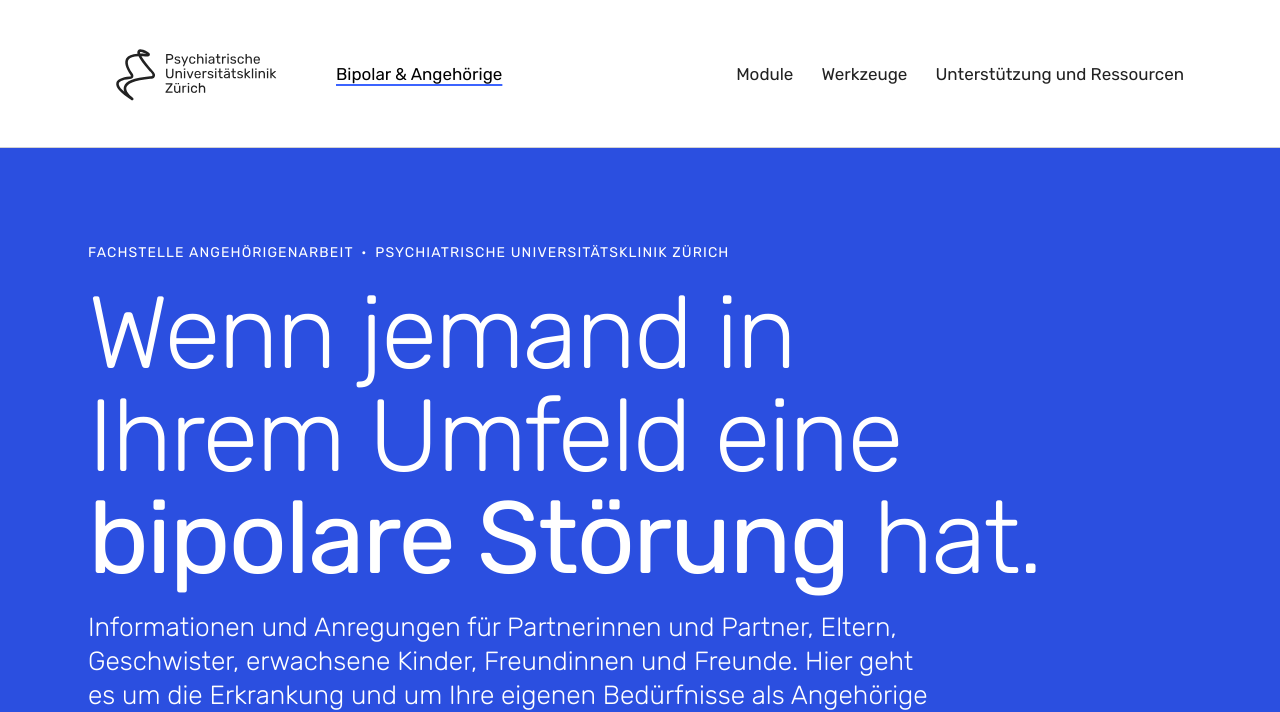
App navigation › navigates between main pages through the shared navigation
Expected: the heading "Wenn jemand in Ihrem Umfeld eine bipolare Störung hat." is shown, [88, 282, 1192, 590]
Click the link "Werkzeuge" at (864, 74), box [821, 64, 907, 84]
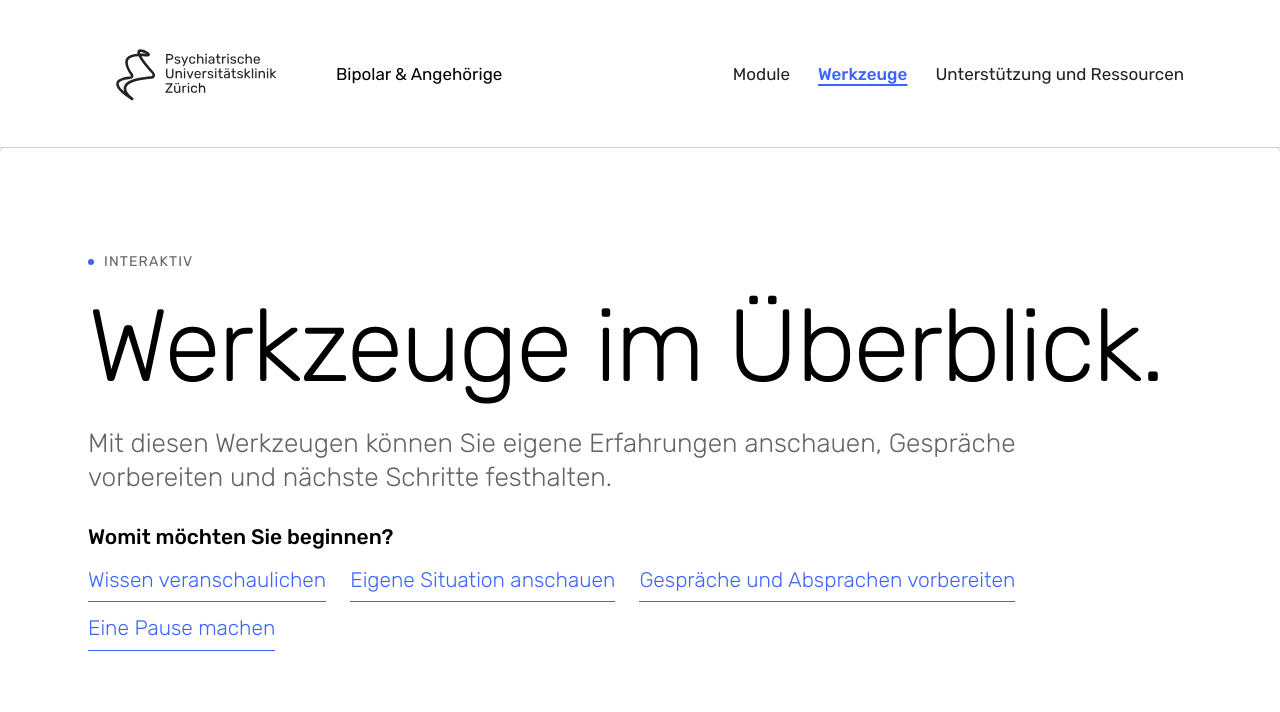
Result: the heading "Werkzeuge im Überblick." is shown at [88, 295, 1192, 398]
Click the link "Unterstützung und Ressourcen" at (1060, 74), box [935, 64, 1184, 84]
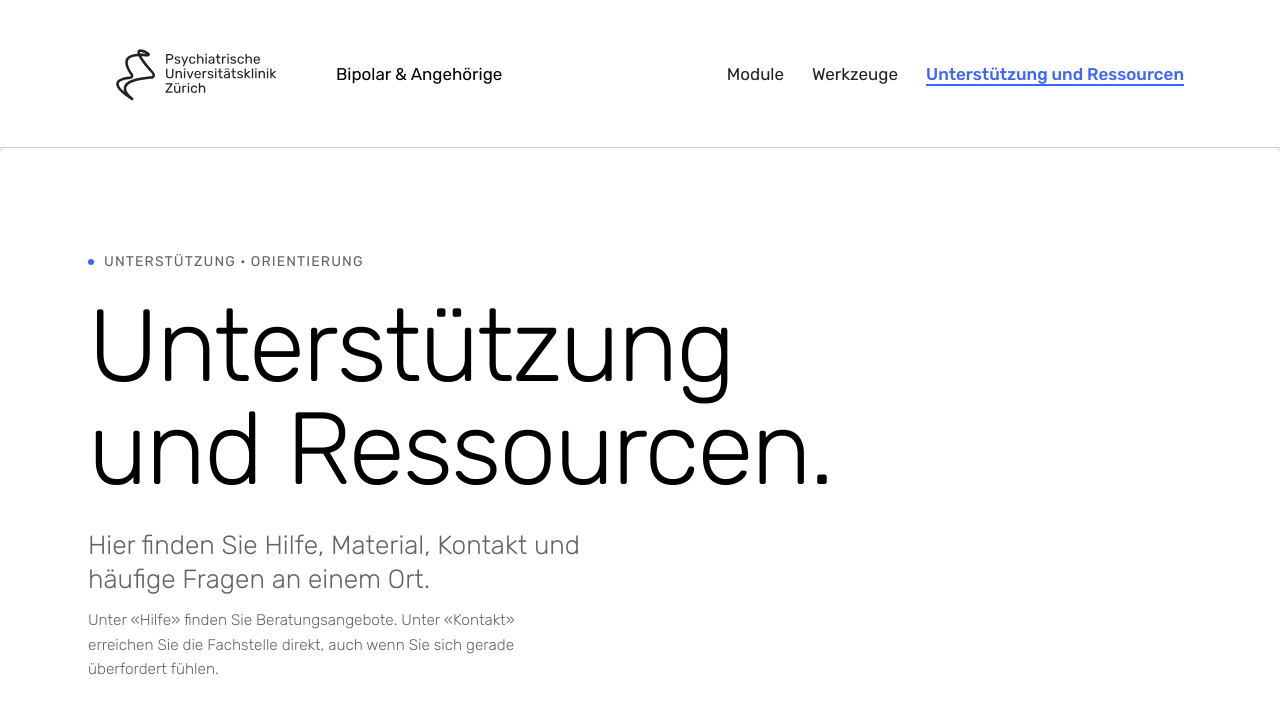
Result: the heading "Unterstützung und Ressourcen." is shown at [88, 285, 832, 510]
